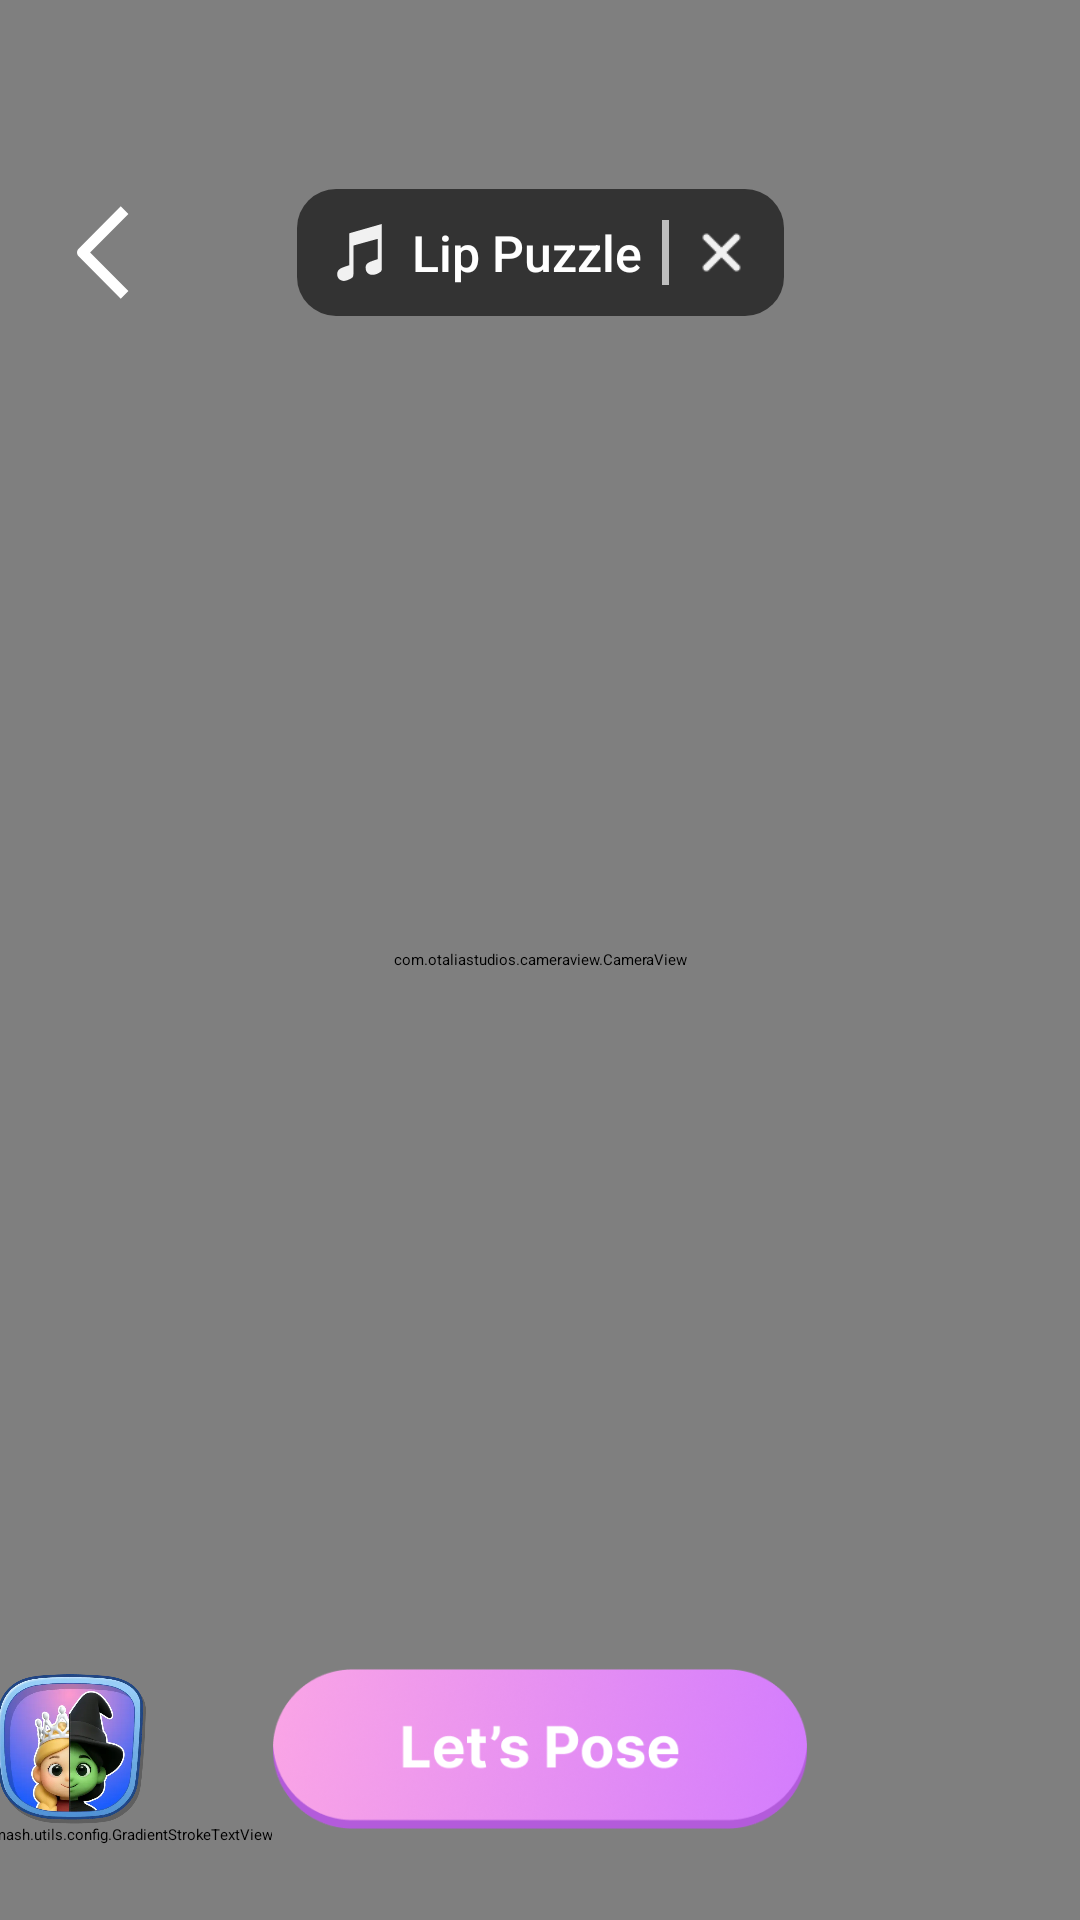

Locate icon controls on the screen. Image size 1080 × 1920, boxes as (x1, y1, x2, y2).
back music: (77, 206, 128, 299)
exit: (702, 233, 741, 272)
music: (337, 224, 382, 281)
princess or witch: (0, 1674, 146, 1823)
